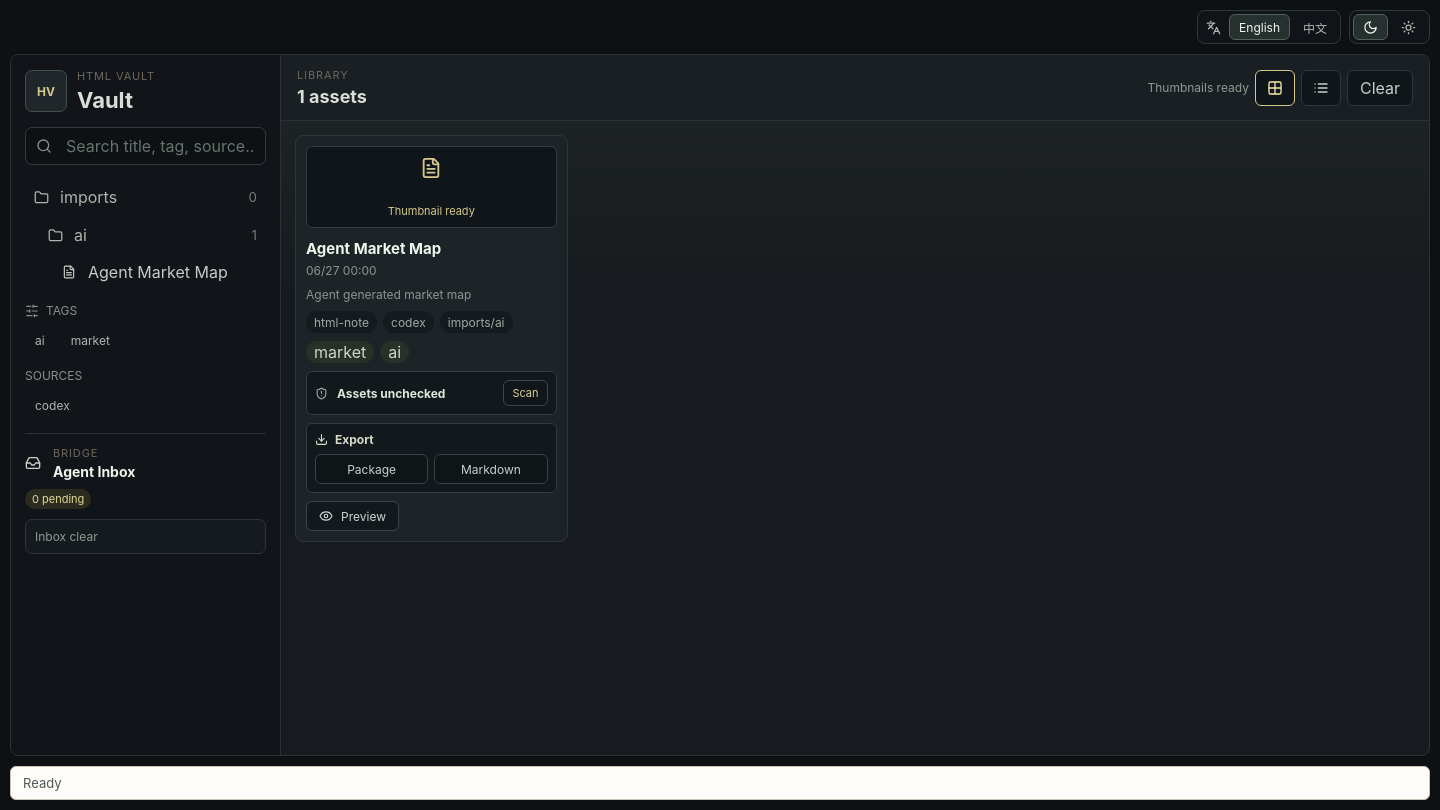
App workspace › scans Vault HTML asset integrity from an HTML note card
What coordinates should you click on to do the following:
click the button with aria-label "Scan assets Agent Market Map"
I would click on:
 (525, 393)
Its box is [503,380,548,406].
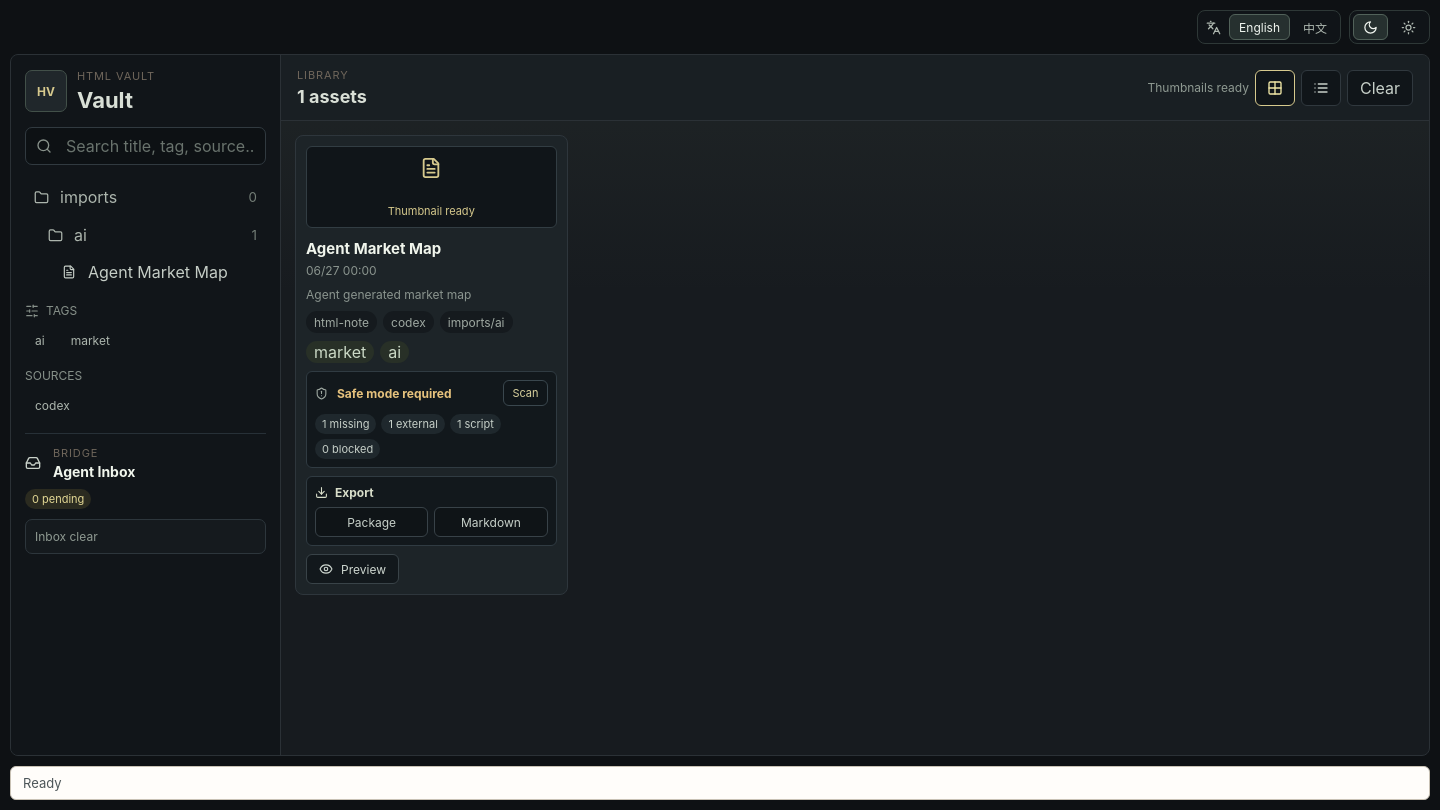
Expected: the text "Safe mode required" is shown, [337,386,452,401]
Expected: the text "1 missing" is shown, [315,414,376,434]
